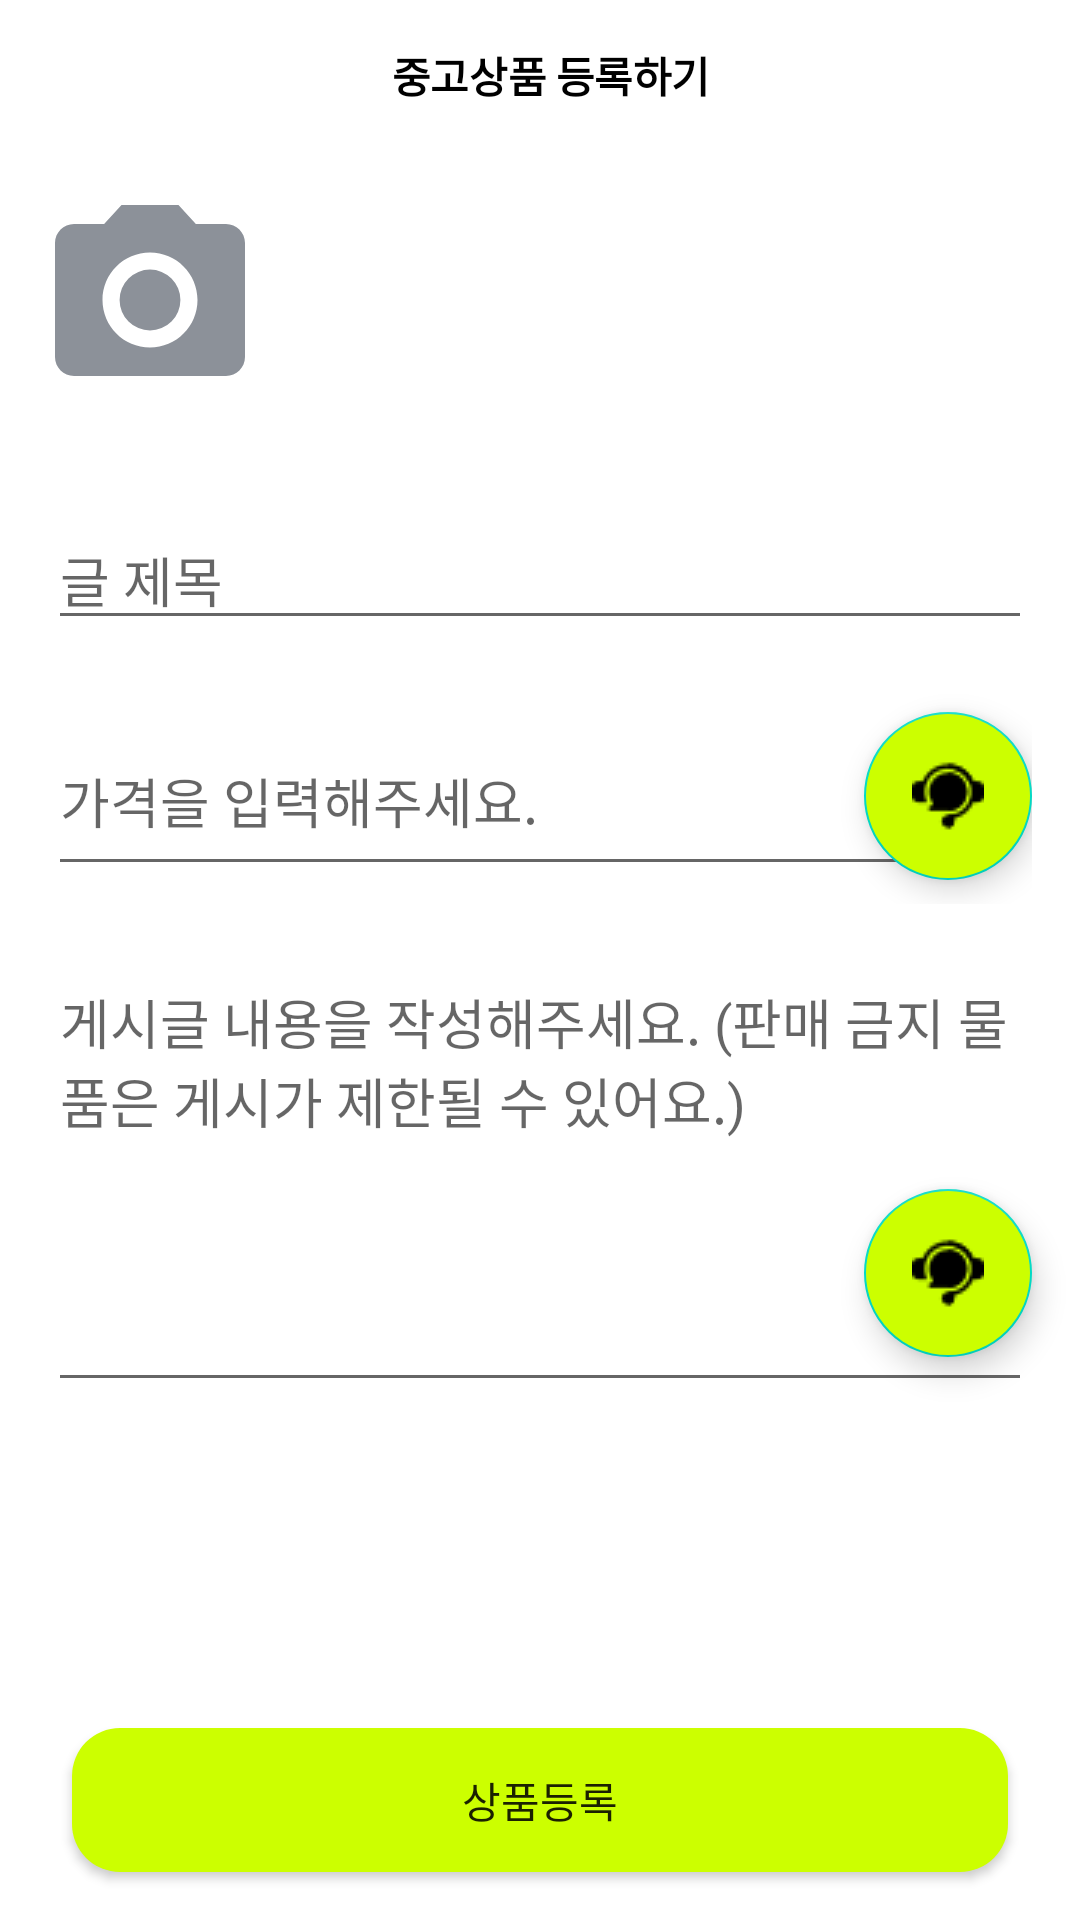

Locate icon controls on the screen. Image size 1080*1920, boxes as (x1, y1, x2, y2).
camera: (55, 205, 245, 376)
live chat: (864, 712, 1032, 880), (864, 1189, 1032, 1357)
